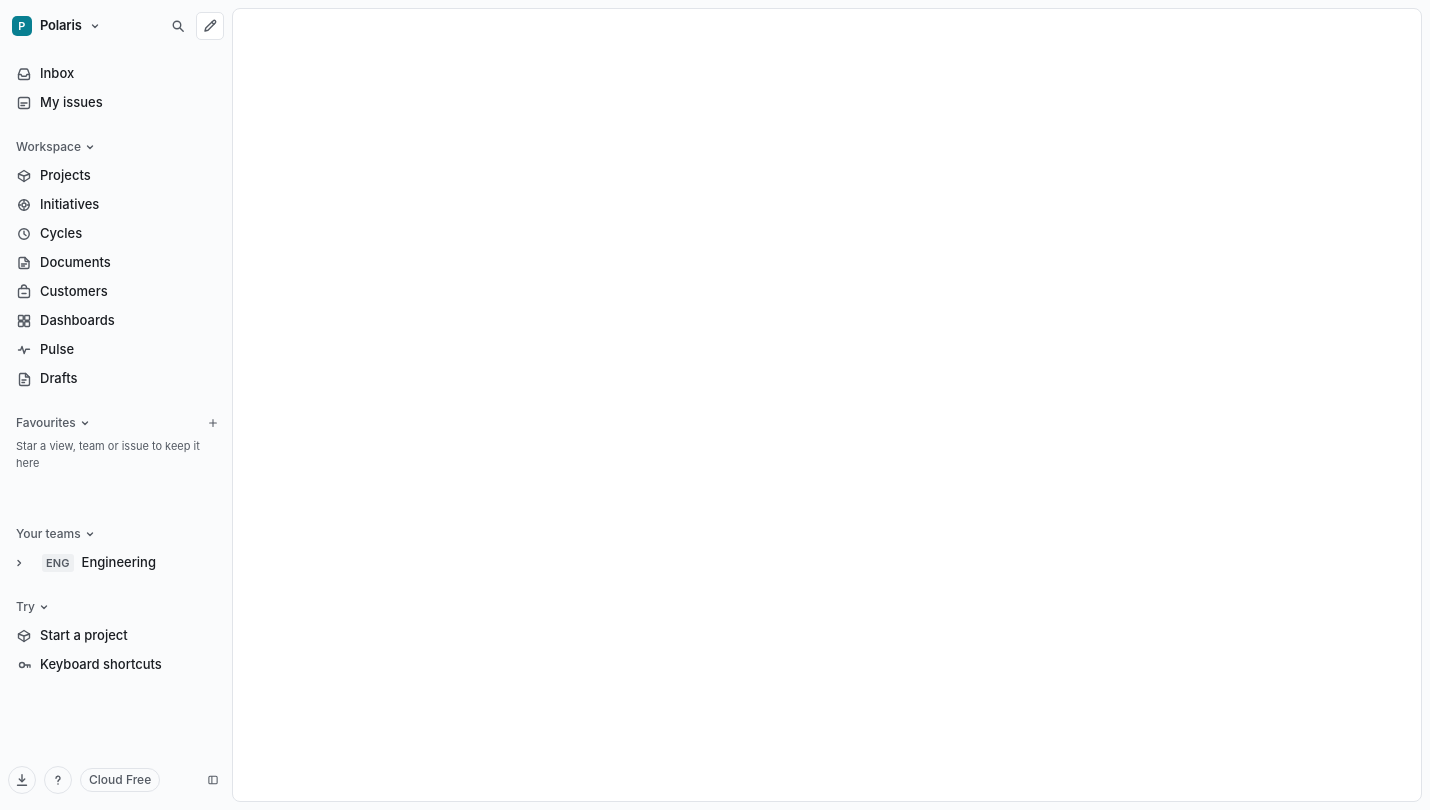
it: the foot of the sidebar › opens the shortcut sheet from the help button
Click the button named "Help". click: click(58, 780)
box: [44,766,72,794]
(page scrolled)
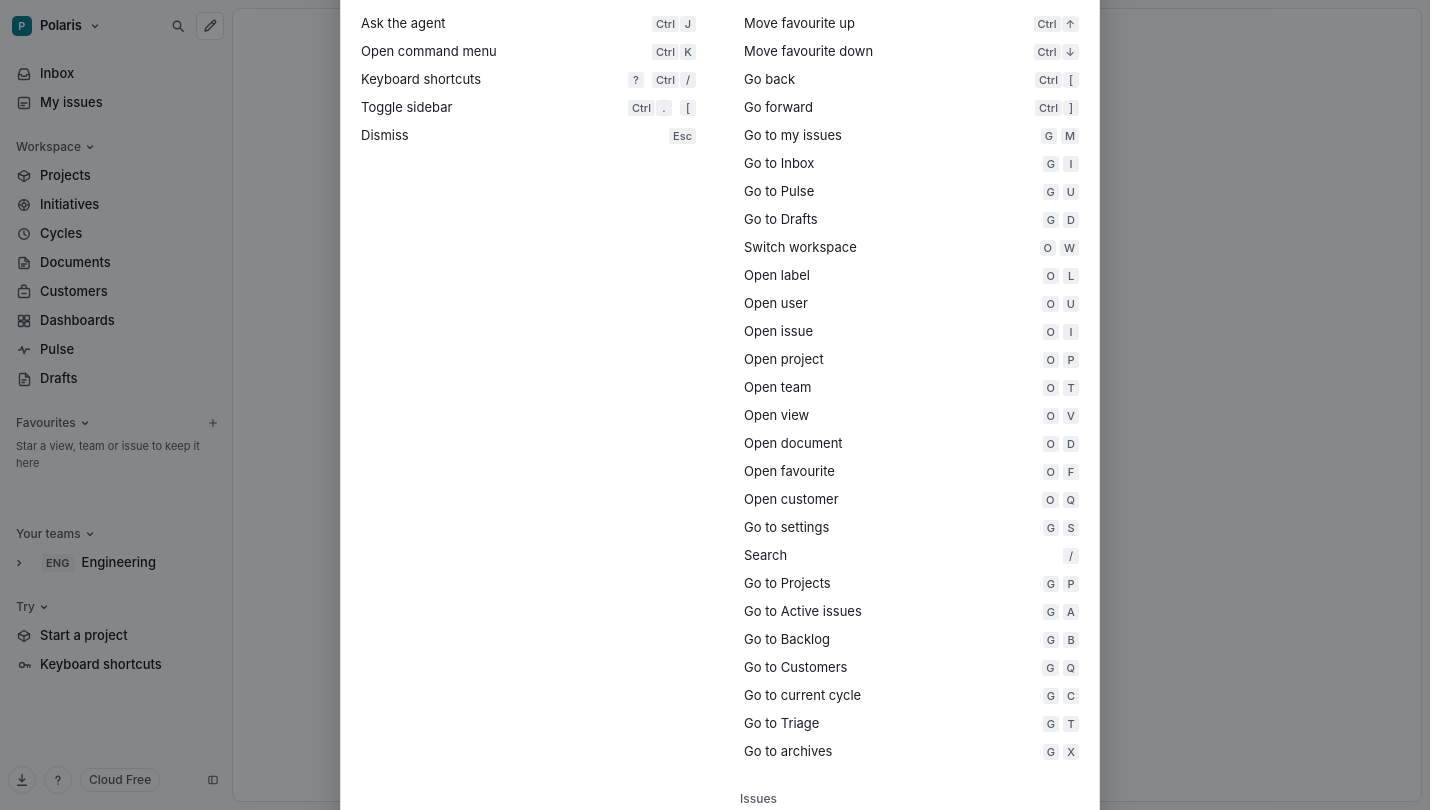
Expected: the dialog "Keyboard shortcuts" is shown, [340,0,1100,809]
